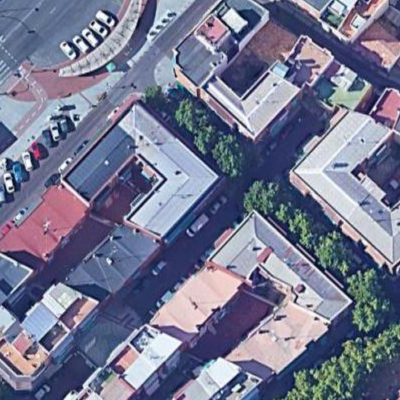tree: (351, 265, 394, 334), (290, 358, 347, 400), (342, 337, 400, 375), (319, 220, 356, 277), (278, 194, 314, 248), (216, 130, 248, 182), (240, 174, 280, 215), (173, 97, 202, 138), (197, 119, 220, 162)
